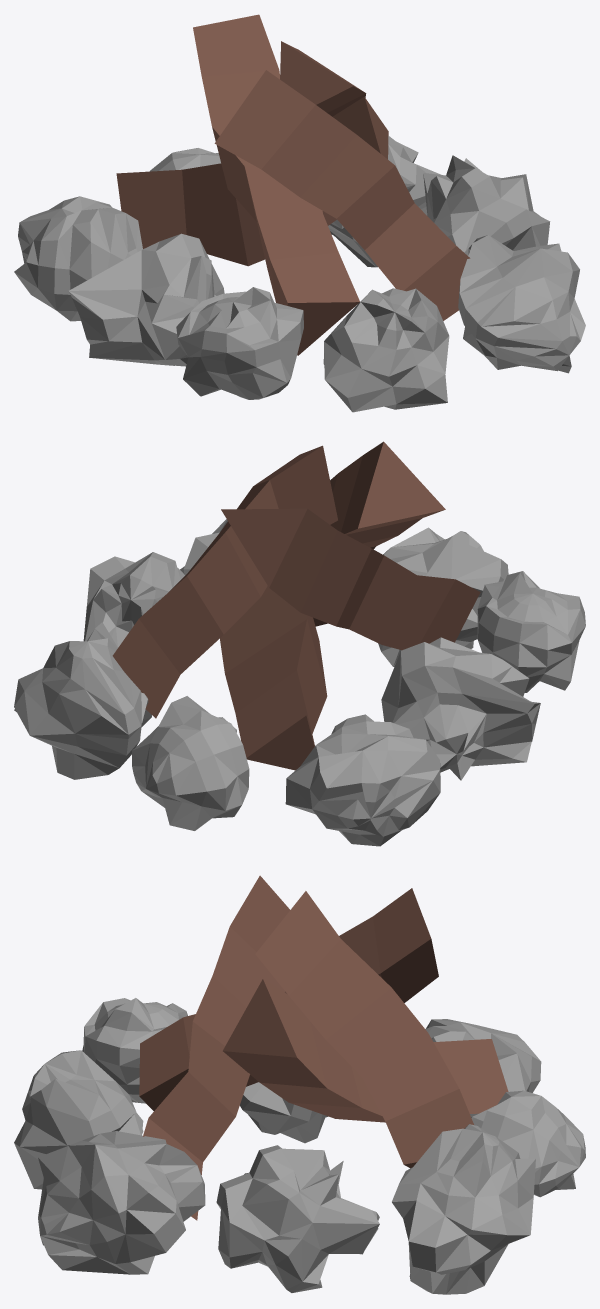
Rendered from fireplace.fbx.
3 views of the same model, one above another, from view 1: azimuth 30°, elevation 25°; view 2: azimuth 150°, elevation 25°; view 3: azimuth 270°, elevation 25° (orthographic). The views are drawn at different scales.
Visible parts, largest first — view 1: group_772756160, mesh_2045133264, mesh_545068126, mesh_1137855262, mesh_1476170349, mesh_1832749607, mesh_1439663833, mesh_1455709668, mesh_955828598; view 2: group_772756160, mesh_545068126, mesh_1832749607, mesh_1455709668, mesh_955828598, mesh_1476170349, mesh_1439663833, mesh_1137855262, mesh_2045133264; view 3: group_772756160, mesh_2045133264, mesh_1455709668, mesh_1439663833, mesh_1137855262, mesh_955828598, mesh_1476170349, mesh_1832749607, mesh_545068126.
Boxes of the visible parts, bbox=[...] form: group_772756160: bbox=[116, 14, 470, 355]; mesh_2045133264: bbox=[458, 235, 585, 373]; mesh_545068126: bbox=[68, 233, 224, 366]; mesh_1137855262: bbox=[323, 288, 449, 412]; mesh_1476170349: bbox=[176, 287, 303, 399]; mesh_1832749607: bbox=[14, 196, 142, 321]; mesh_1439663833: bbox=[421, 155, 550, 252]; mesh_1455709668: bbox=[328, 135, 441, 267]; mesh_955828598: bbox=[149, 148, 220, 171]; group_772756160: bbox=[112, 441, 480, 770]; mesh_545068126: bbox=[381, 637, 540, 780]; mesh_1832749607: bbox=[285, 714, 440, 846]; mesh_1455709668: bbox=[14, 622, 151, 779]; mesh_955828598: bbox=[132, 696, 249, 830]; mesh_1476170349: bbox=[477, 571, 585, 692]; mesh_1439663833: bbox=[83, 552, 184, 647]; mesh_1137855262: bbox=[378, 527, 508, 666]; mesh_2045133264: bbox=[180, 519, 227, 575]; group_772756160: bbox=[139, 875, 508, 1220]; mesh_2045133264: bbox=[38, 1131, 205, 1274]; mesh_1455709668: bbox=[392, 1124, 535, 1294]; mesh_1439663833: bbox=[216, 1145, 379, 1292]; mesh_1137855262: bbox=[14, 1050, 143, 1189]; mesh_955828598: bbox=[471, 1090, 585, 1197]; mesh_1476170349: bbox=[82, 998, 187, 1103]; mesh_1832749607: bbox=[425, 1019, 541, 1117]; mesh_545068126: bbox=[240, 1082, 327, 1143].
Size of the model in its own units: 84.99 by 55.75 by 90.44.
